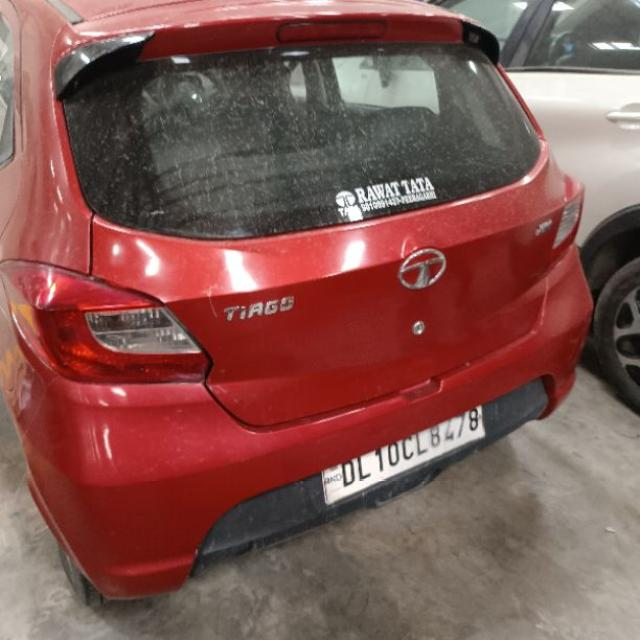license_plate: (319, 403, 487, 507)
